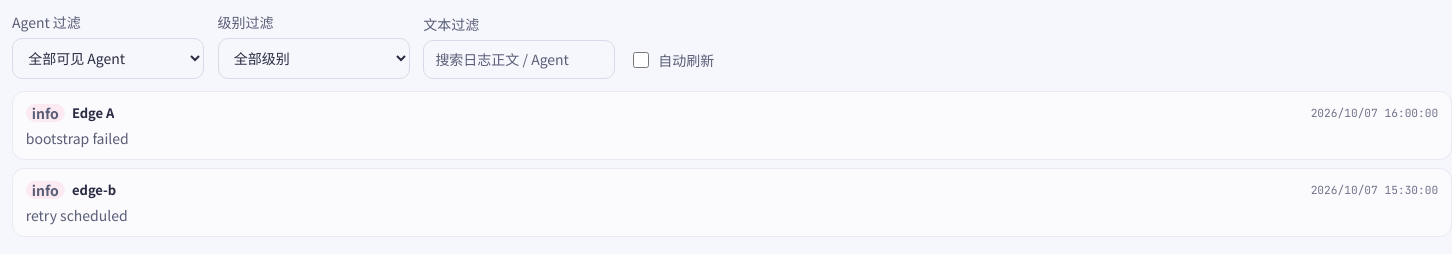
it: PluginLogViewer › filters loaded entries by text across message and agent name
In the search field with test id "plugin-log-text-filter": (519, 59) [423,40,615,79], type "edge a"
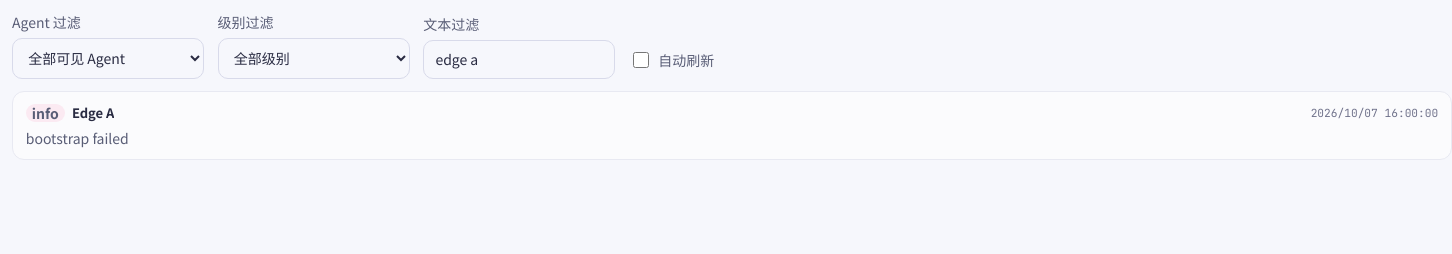
expect the text "bootstrap failed" is shown: met, box [26,128,129,148]
expect the number of list items is 1: met, box [12,91,1451,160]
Replace the text in the search field with test id "plugin-log-text-filter" with "retry": (519, 59) [423,40,615,79]
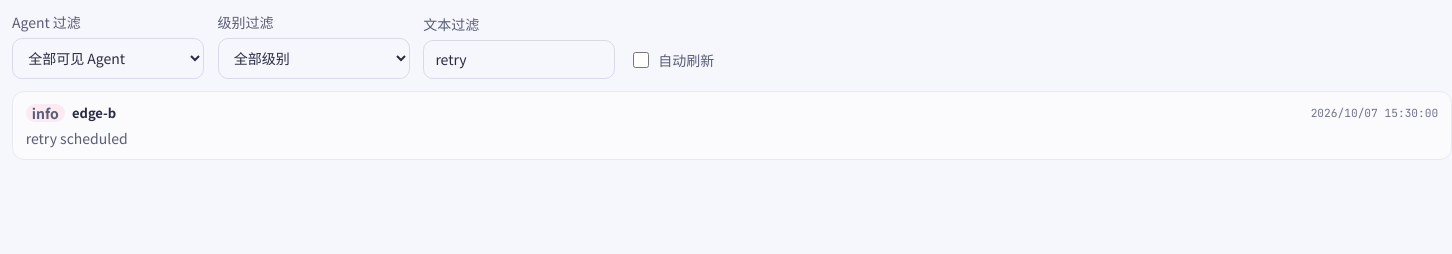
expect the number of list items is 1: met, box [12,91,1451,160]
expect the text "retry scheduled" is shown: met, box [26,128,128,148]
Replace the text in the search field with test id "plugin-log-text-filter" with "no-such-text": (519, 59) [423,40,615,79]
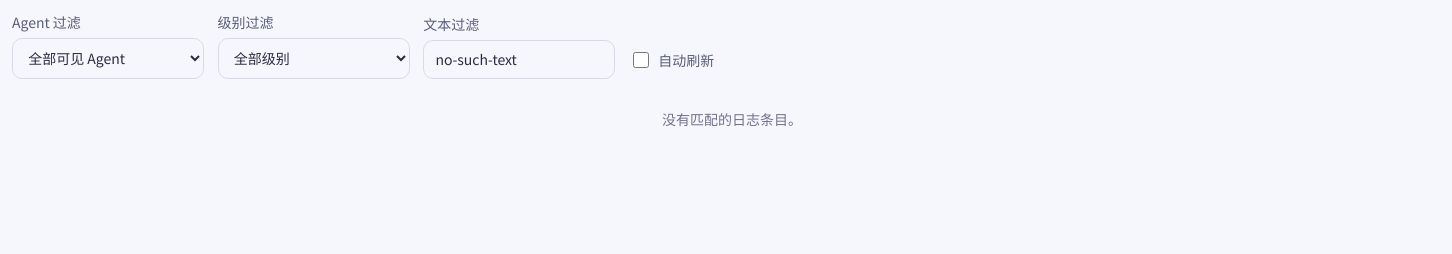
expect the text "没有匹配的日志条目" is shown: met, box [662,109,802,129]
